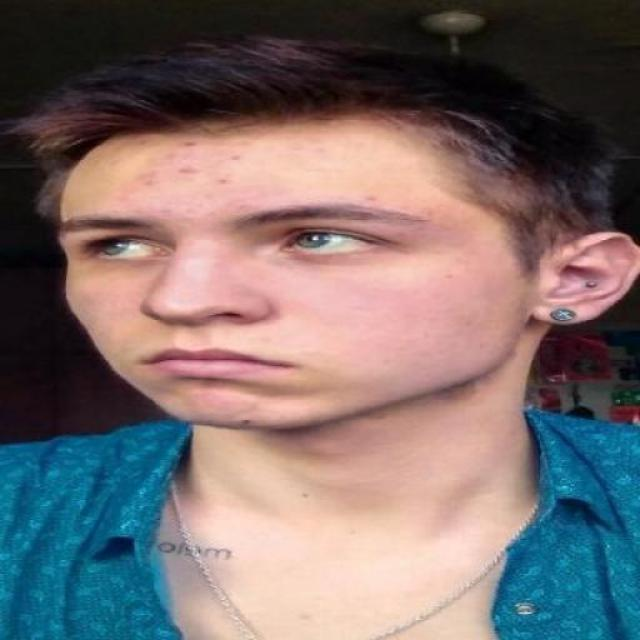Acne: (140, 138, 247, 218)
